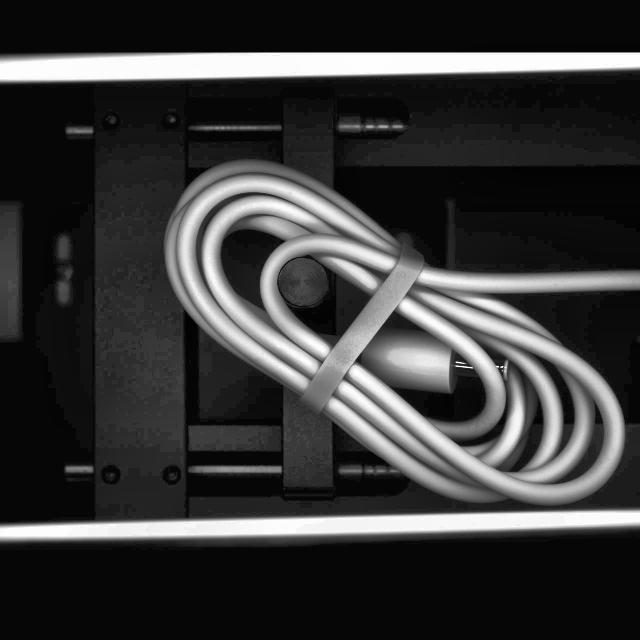Cable: (160, 153, 640, 509)
